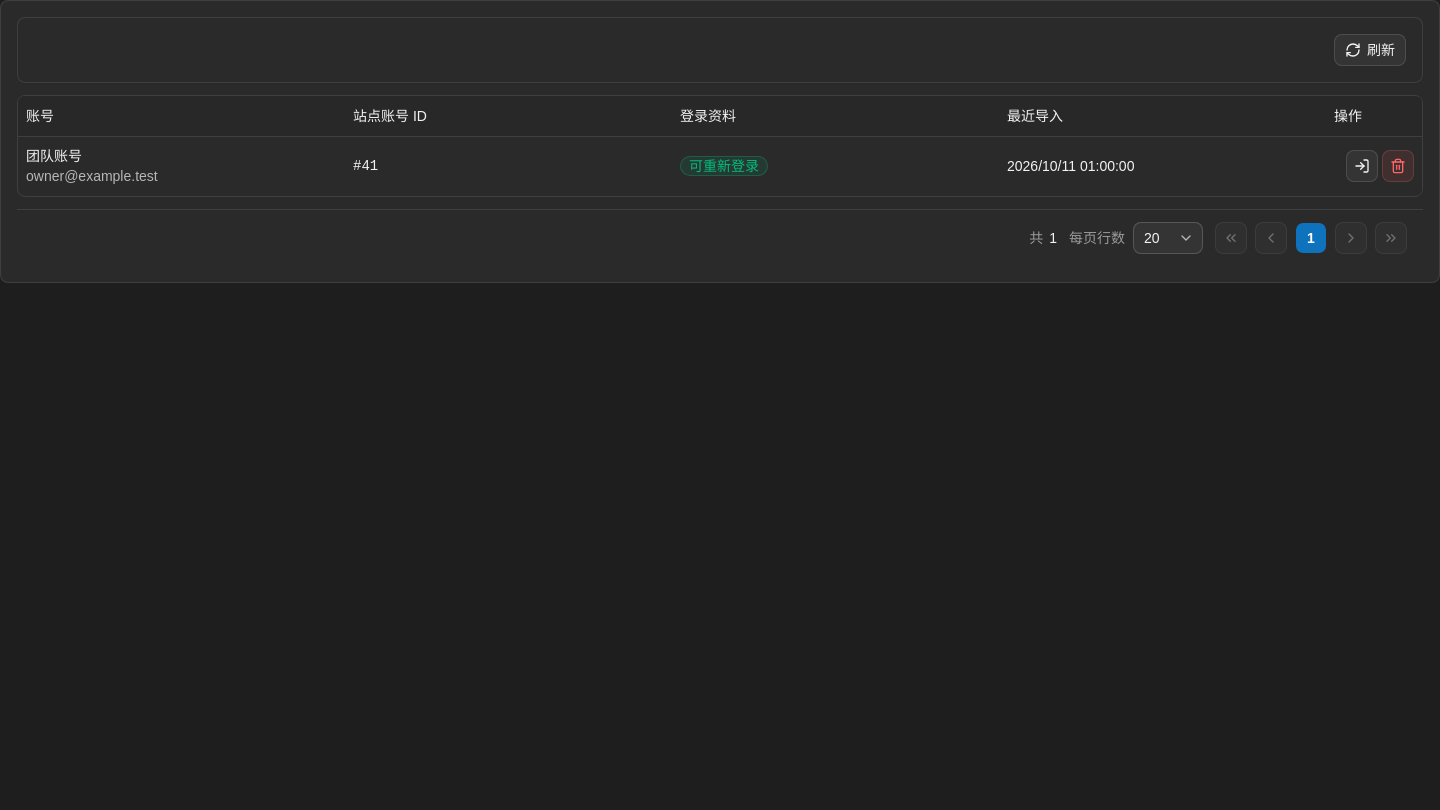
Test case: 删除保存资料先确认账号，失败保留记录，成功后刷新列表
Click the button named "删除 团队账号" at (1398, 166), box [1382,150,1414,182]
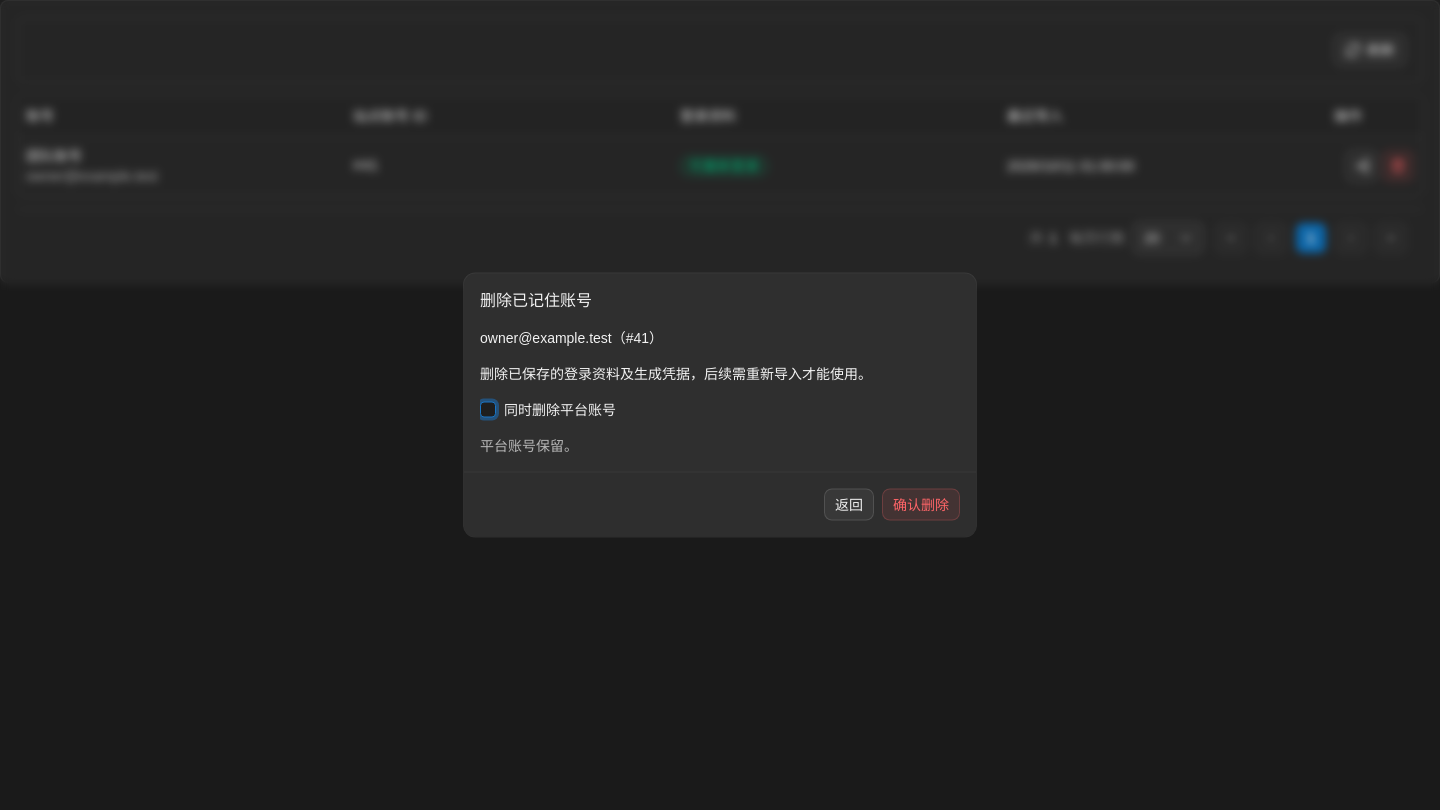
Result: the text "owner@example.test（#41）" is shown at [480,330,663,346]
Click the button "返回" at (849, 504), box [824,488,874,520]
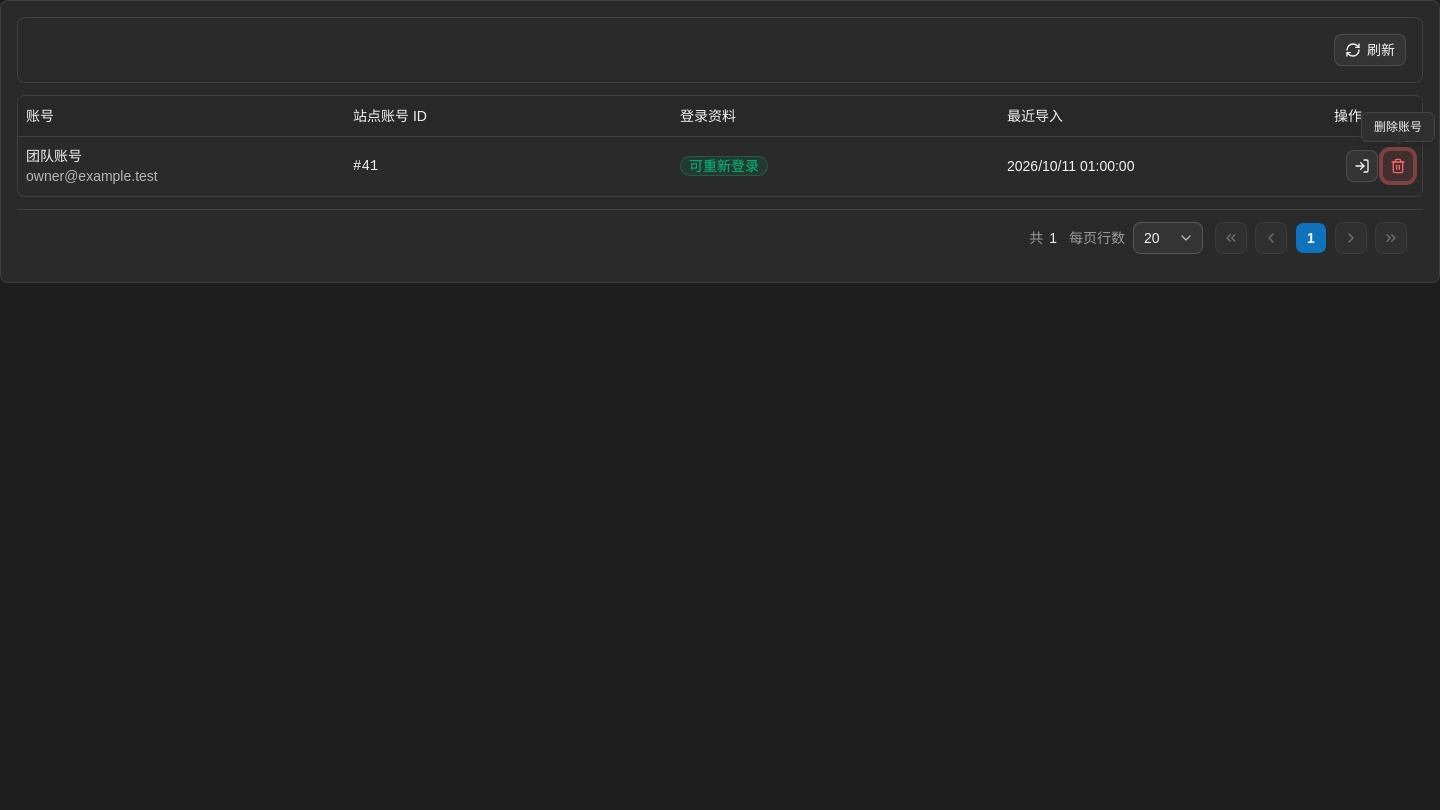
Click the button named "删除 团队账号" at (1398, 166), box [1382,150,1414,182]
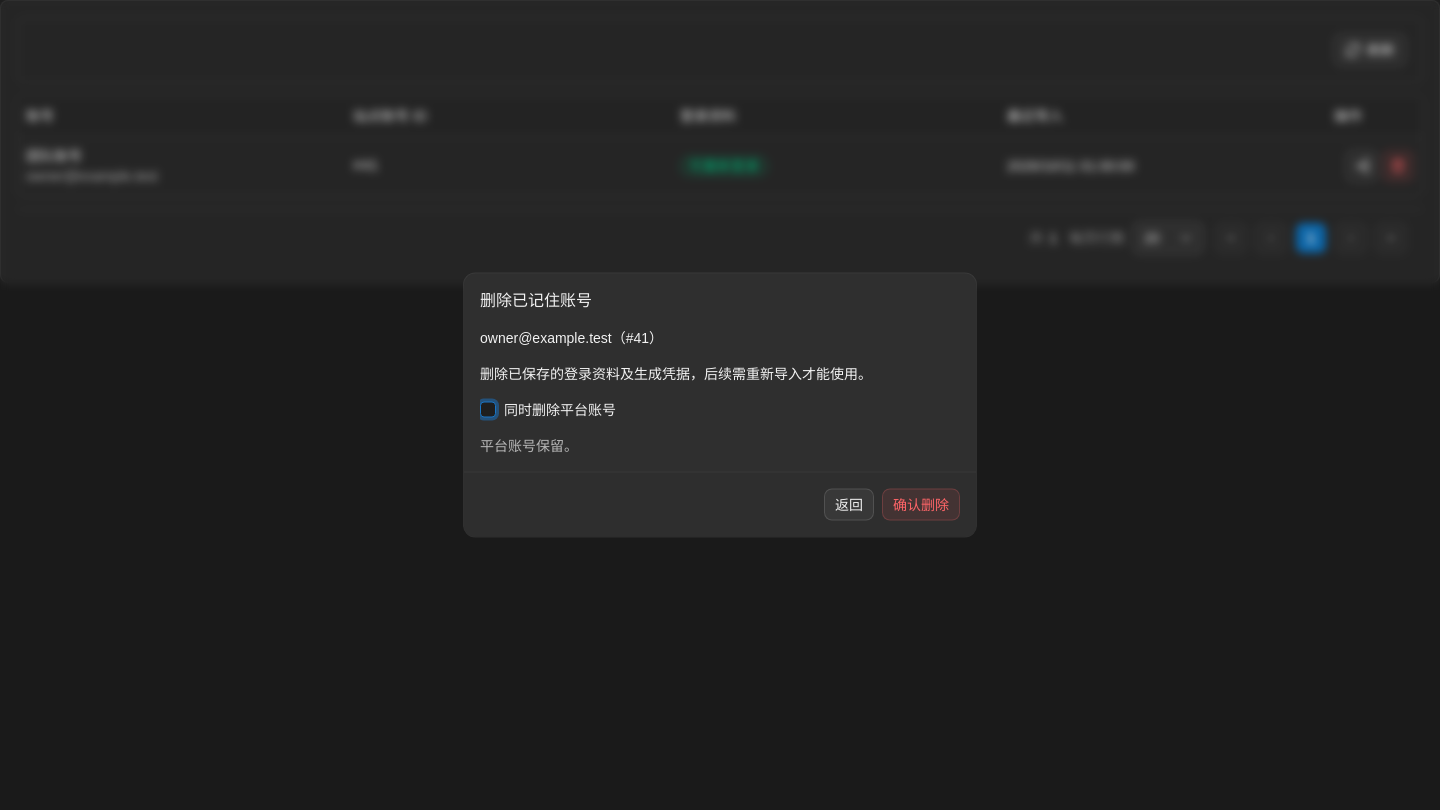
Click the button "确认删除" at (921, 504), box [882,488,960,520]
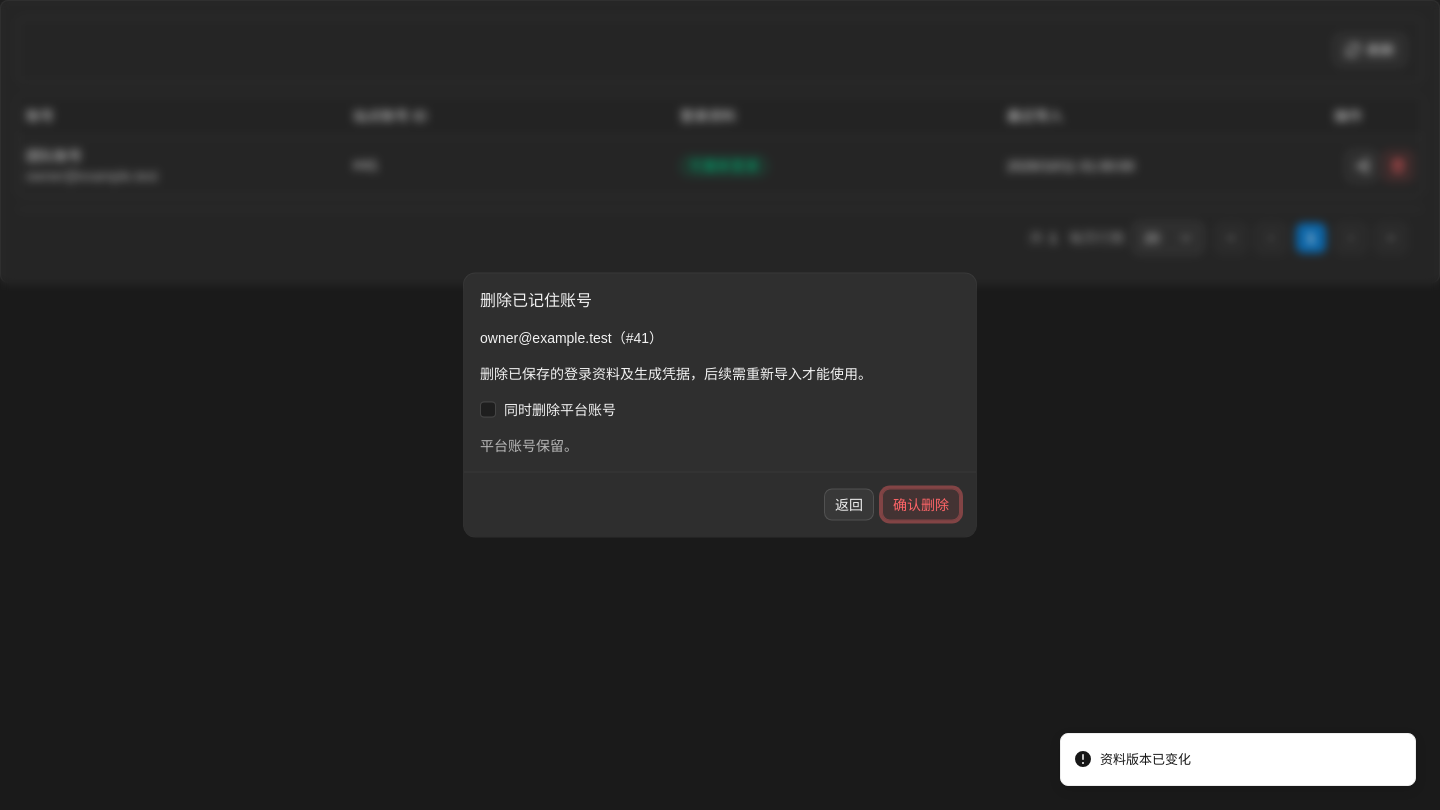
Result: the button "确认删除" is enabled
Result: the text "资料版本已变化" is shown at [1100,750,1191,769]
Click the button "确认删除" at (921, 504), box [882,488,960,520]
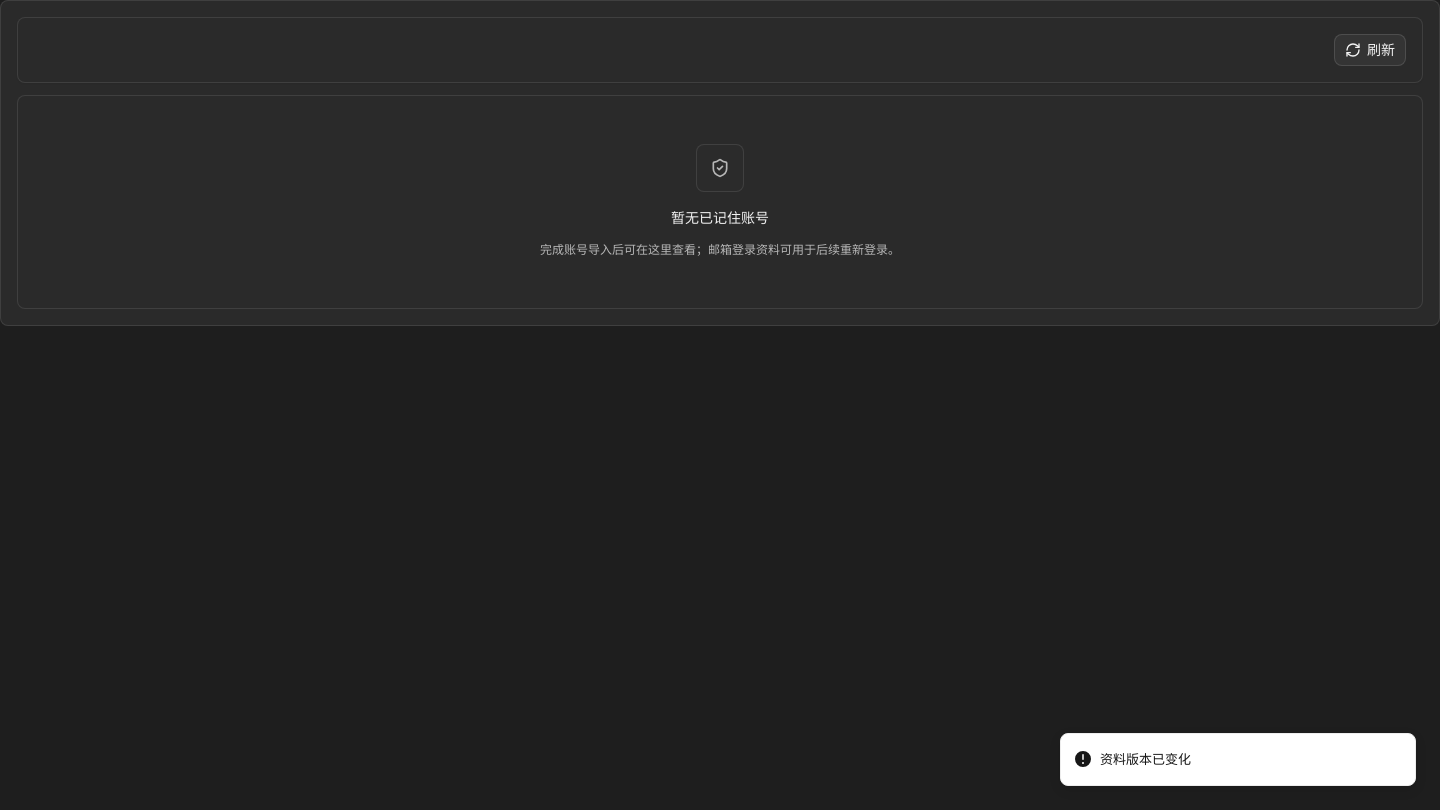
Result: the text "暂无已记住账号" is shown at [671,208,769,228]
